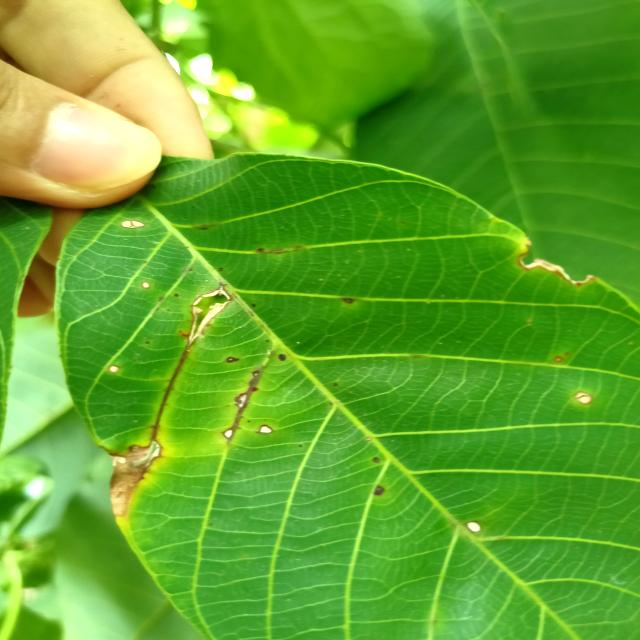Colletotrichum: (120, 219, 146, 229), (466, 520, 480, 534), (257, 424, 275, 434), (373, 484, 385, 496), (108, 364, 122, 374), (226, 356, 236, 364), (141, 281, 151, 289), (278, 354, 286, 362), (372, 457, 380, 463), (218, 267, 223, 272), (174, 293, 179, 297)
Corynespora: (148, 342, 193, 442), (222, 368, 264, 444)
Leaf-Blight: (109, 441, 161, 517), (190, 303, 227, 344)
